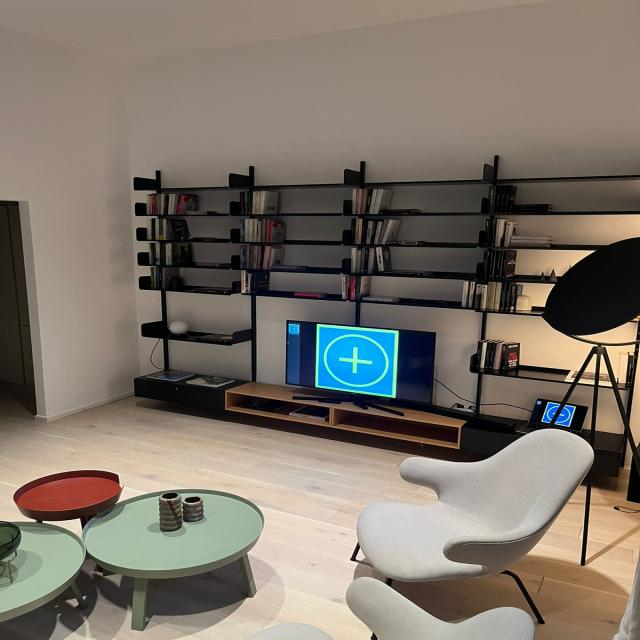Marker: (317, 324, 398, 398), (542, 402, 576, 427)
